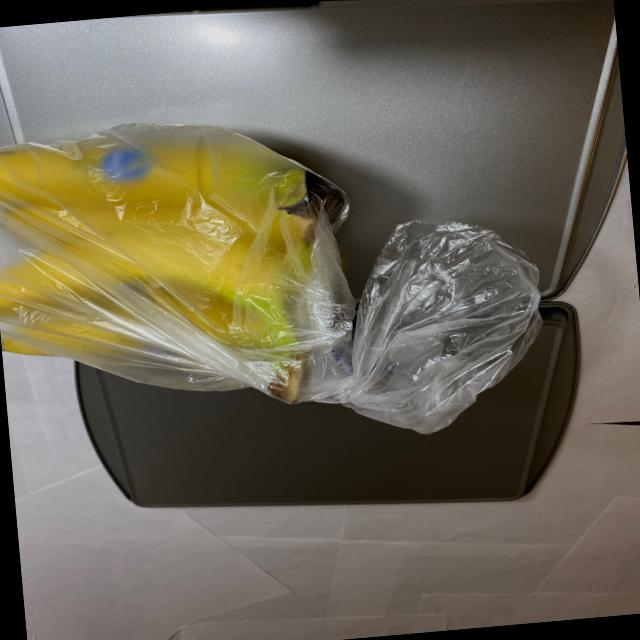banana: (0, 81, 368, 442)
